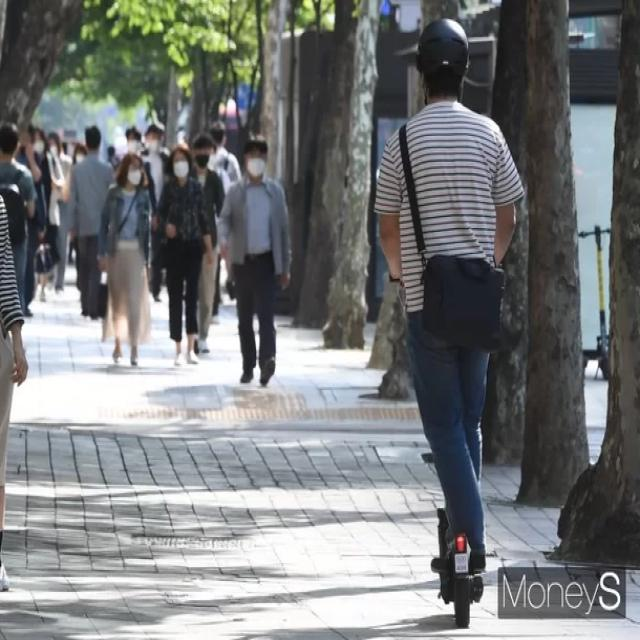helmet: (366, 9, 527, 640)
